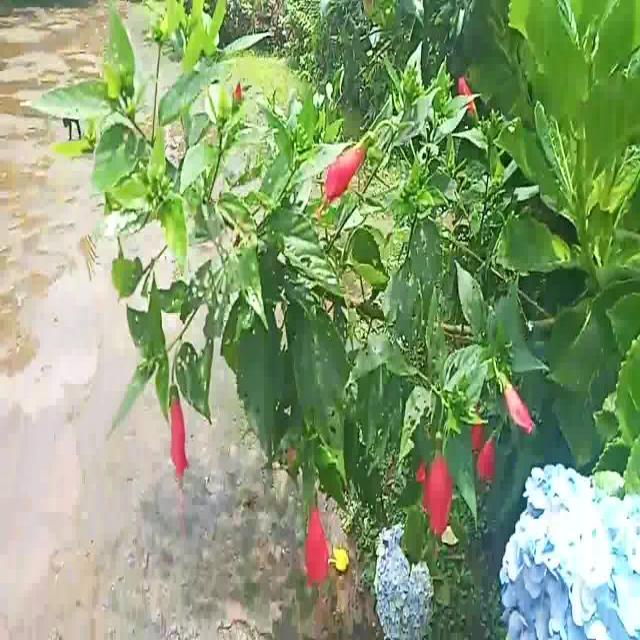Flower: (323, 127, 375, 201), (163, 378, 195, 489), (303, 483, 333, 586), (497, 369, 538, 442), (426, 440, 454, 546)
